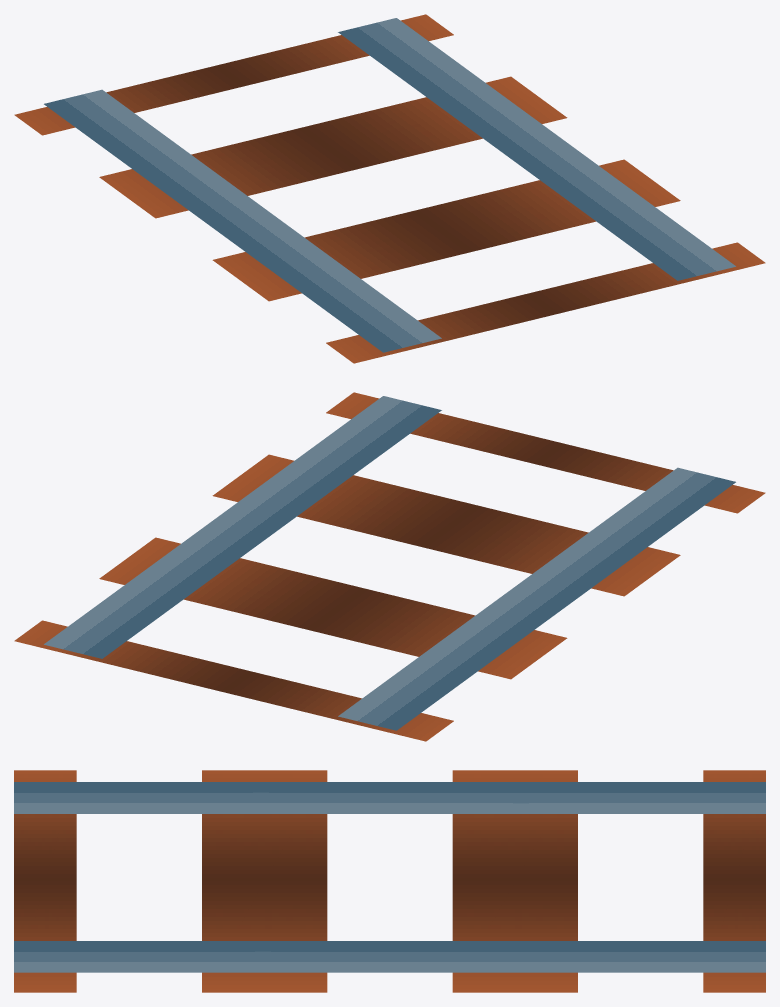
File: train_skidmark.FBX
3 views of the same model, one above another, from view 1: azimuth 30°, elevation 25°; view 2: azimuth 150°, elevation 25°; view 3: azimuth 270°, elevation 25° (orthographic). The views are drawn at different scales.
Parts seen in each view (by area): view 1: train_skidmark; view 2: train_skidmark; view 3: train_skidmark.
Boxes of the visible parts, x1=… form: train_skidmark: x1=14, y1=14, x2=765, y2=363; train_skidmark: x1=14, y1=392, x2=765, y2=741; train_skidmark: x1=14, y1=770, x2=765, y2=992.
Size of the model in its own units: 700 by 6 by 1000.
